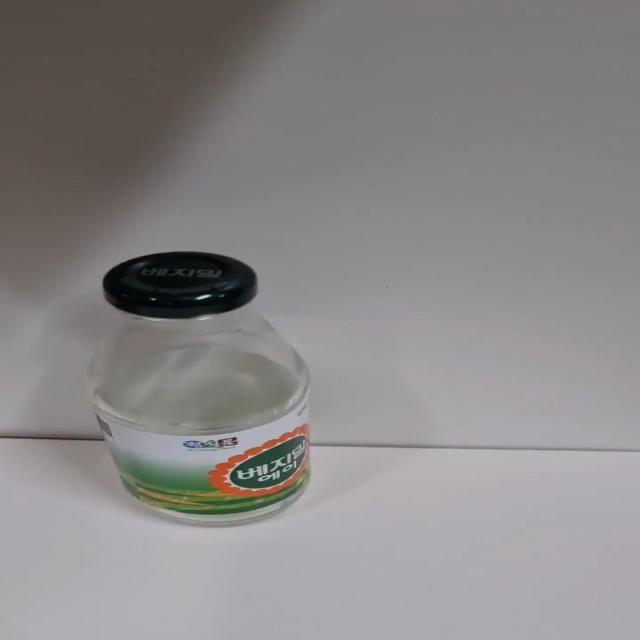Glass: (88, 252, 313, 529)
